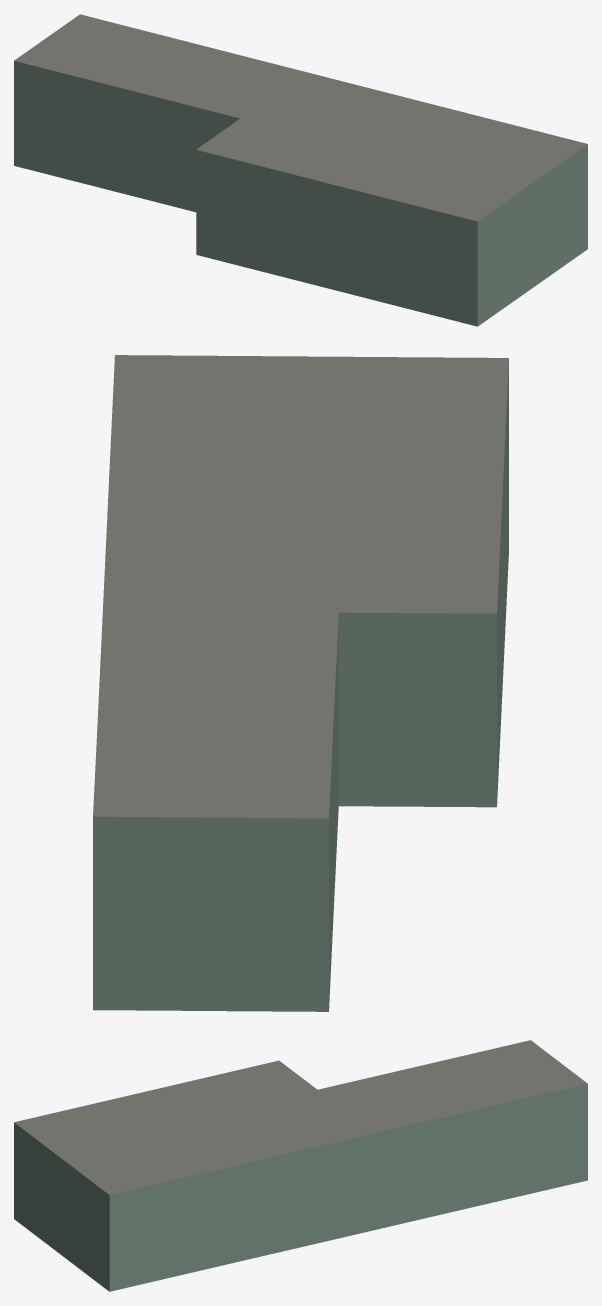
Rendered from nyc-1089023-0.glb.
3 views of the same model, one above another, from view 1: azimuth 30°, elevation 25°; view 2: azimuth 150°, elevation 25°; view 3: azimuth 270°, elevation 25° (orthographic). The views are drawn at different scales.
Visible parts, largest first — view 1: nyc-1089023-0; view 2: nyc-1089023-0; view 3: nyc-1089023-0.
Part boxes in pixels (x1,y1,x2,y2): nyc-1089023-0: [14, 14, 587, 326]; nyc-1089023-0: [93, 355, 508, 1011]; nyc-1089023-0: [14, 1040, 587, 1291].
Bounding box in the file's own units: 20.96 × 6.1 × 32.8.
